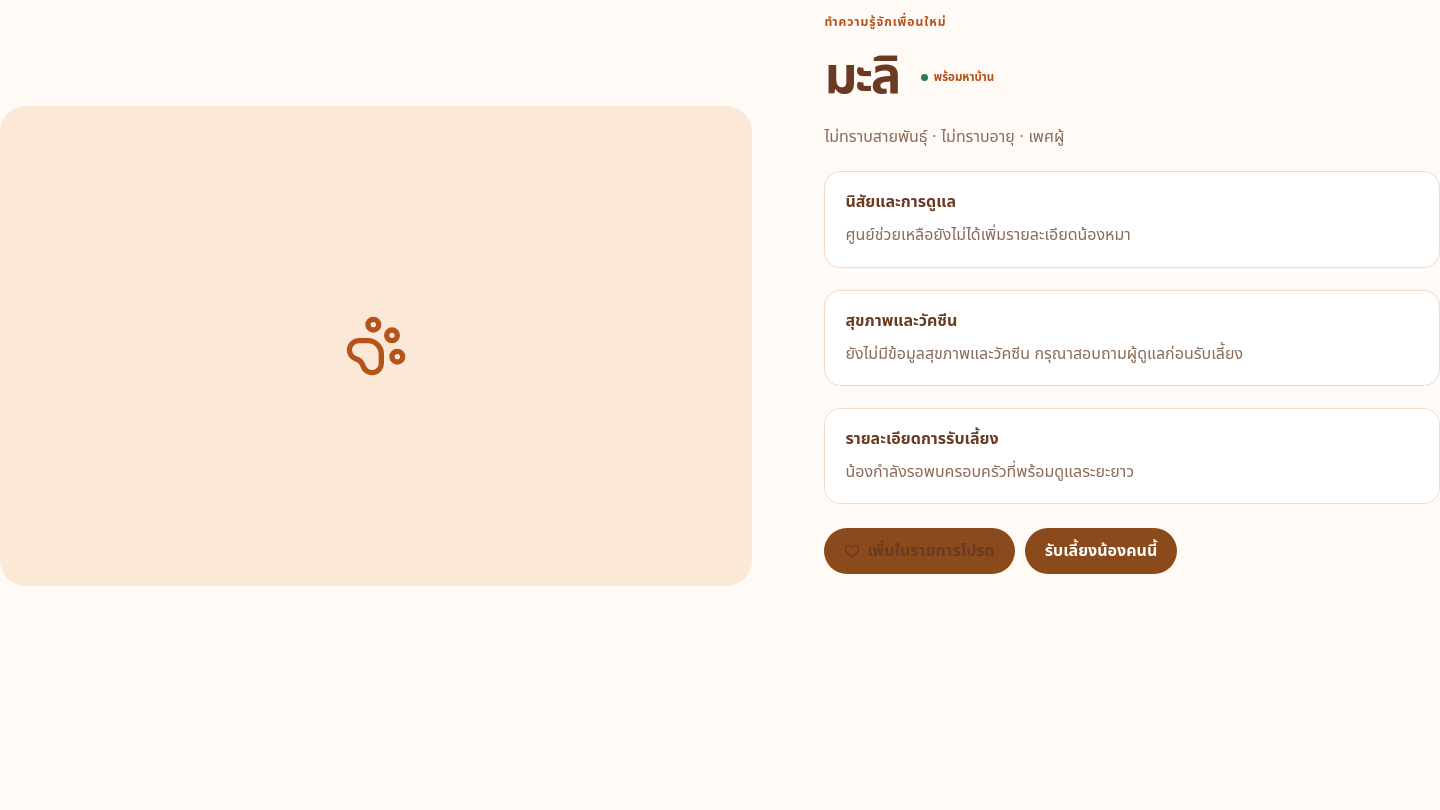
Test case: keeps the unselected heart and shows the error when adding fails
Click the button "เพิ่มในรายการโปรด" at [920, 551], box [824, 528, 1015, 574]
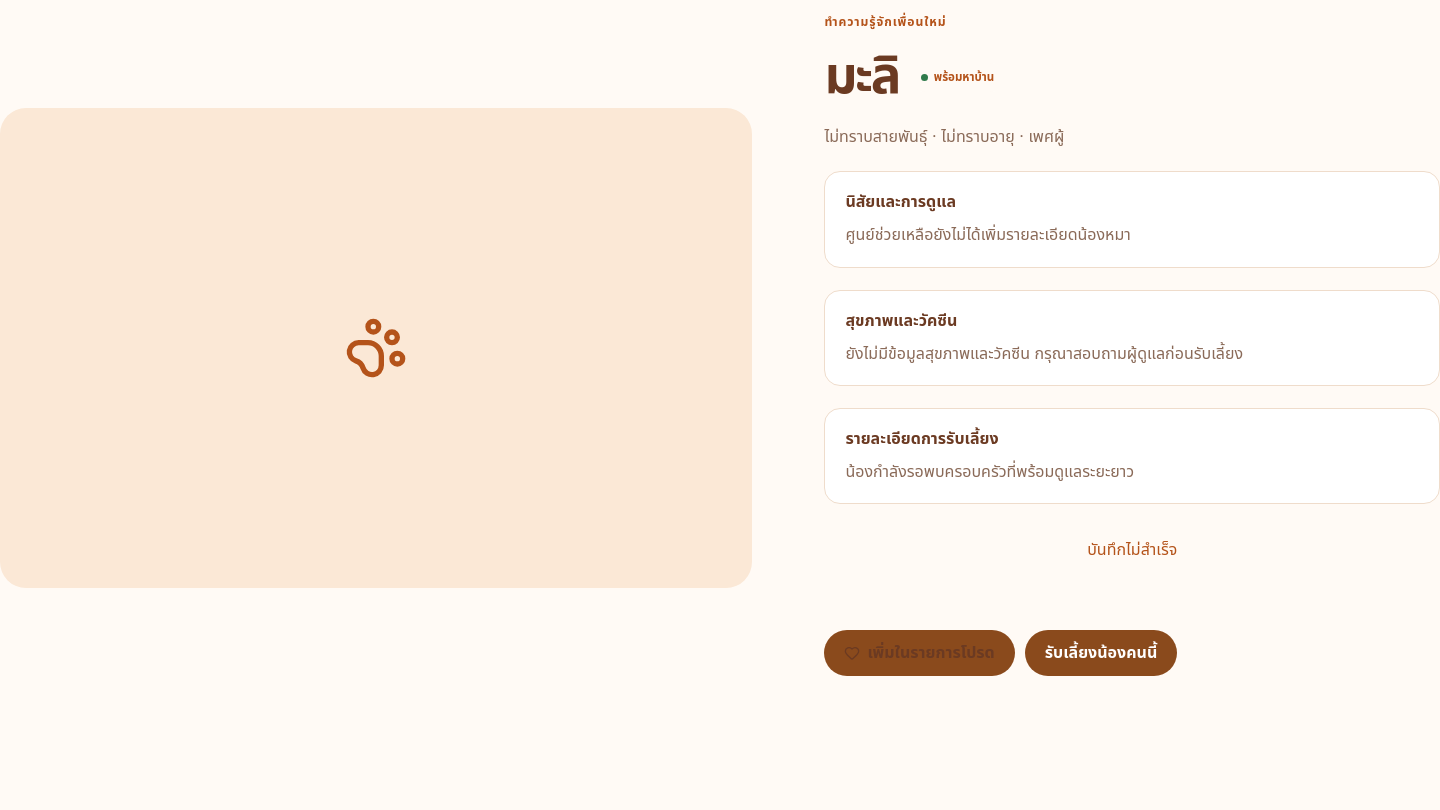
Now the message reads "บันทึกไม่สำเร็จ", box [1087, 539, 1177, 559]
